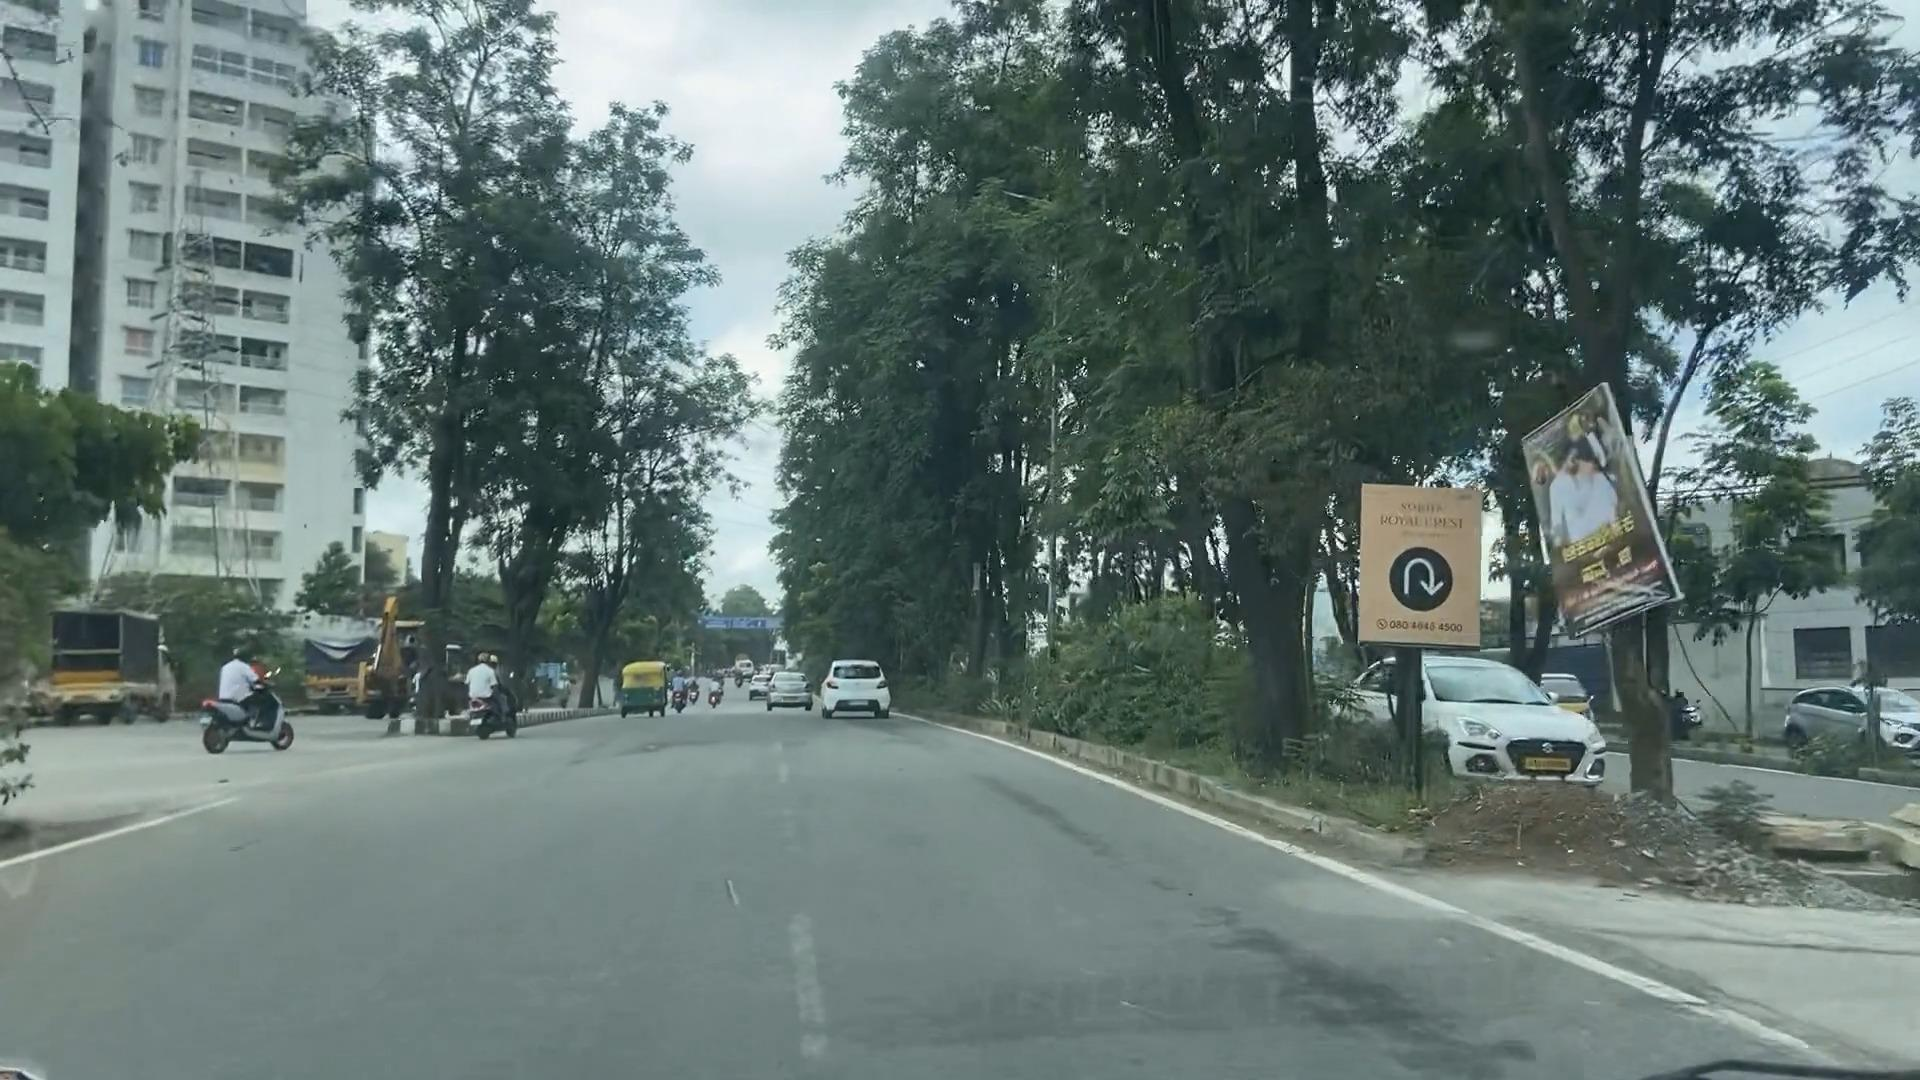LMV: (212, 650, 273, 749), (468, 655, 521, 741), (822, 662, 895, 716), (626, 658, 667, 716), (756, 669, 807, 711)
RoadDamages: (1153, 862, 1317, 1005), (1352, 976, 1520, 1080), (968, 771, 1069, 855), (898, 990, 1063, 1036), (615, 736, 707, 760)
